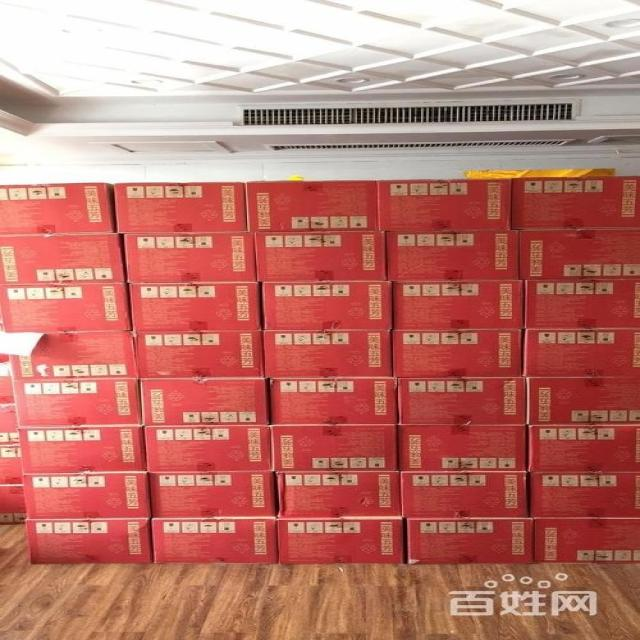box: (244, 179, 378, 233), (377, 179, 513, 232), (13, 379, 144, 431), (252, 232, 385, 283), (121, 234, 259, 283), (113, 183, 248, 233), (513, 178, 639, 231), (7, 331, 140, 380), (396, 425, 529, 474), (391, 280, 521, 330), (0, 232, 125, 284), (0, 182, 115, 238), (128, 283, 262, 331), (390, 330, 524, 378), (394, 377, 528, 425), (0, 283, 131, 332), (384, 231, 517, 279), (269, 425, 401, 473), (16, 425, 145, 474), (138, 427, 272, 474), (261, 331, 394, 378), (138, 378, 271, 425), (517, 229, 639, 280), (269, 378, 398, 426), (272, 518, 407, 563), (400, 472, 532, 518), (261, 283, 390, 330), (22, 473, 151, 520), (135, 332, 264, 378), (404, 517, 532, 563), (522, 377, 639, 427), (149, 473, 278, 518), (521, 279, 639, 328), (149, 518, 277, 563), (277, 472, 401, 518), (24, 520, 152, 563), (526, 426, 639, 474), (524, 330, 639, 377), (531, 518, 639, 563), (529, 474, 639, 518), (0, 332, 44, 406), (0, 483, 27, 523), (0, 445, 23, 484), (0, 406, 17, 445)
